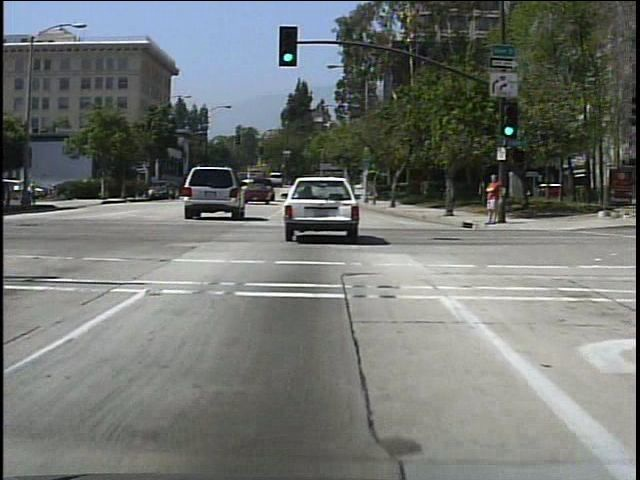person: (475, 169, 505, 226), (20, 178, 31, 211), (30, 180, 40, 206)
